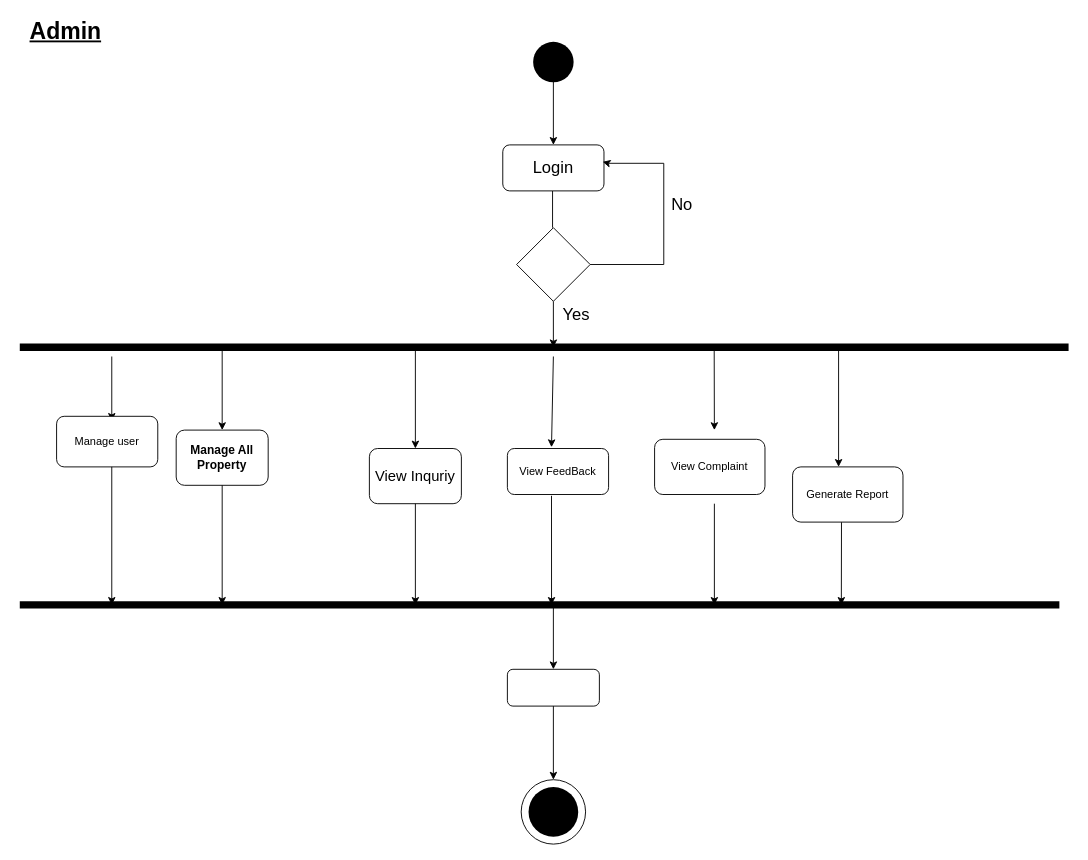
The diagram is 1088 pixels wide and 860 high, and some of its shapes have lost their labels. Here are the shapes that lost their labels. From the top down, the centre of each, then its label:
At (553,264): "is valid".
At (552,687): "Logout".
